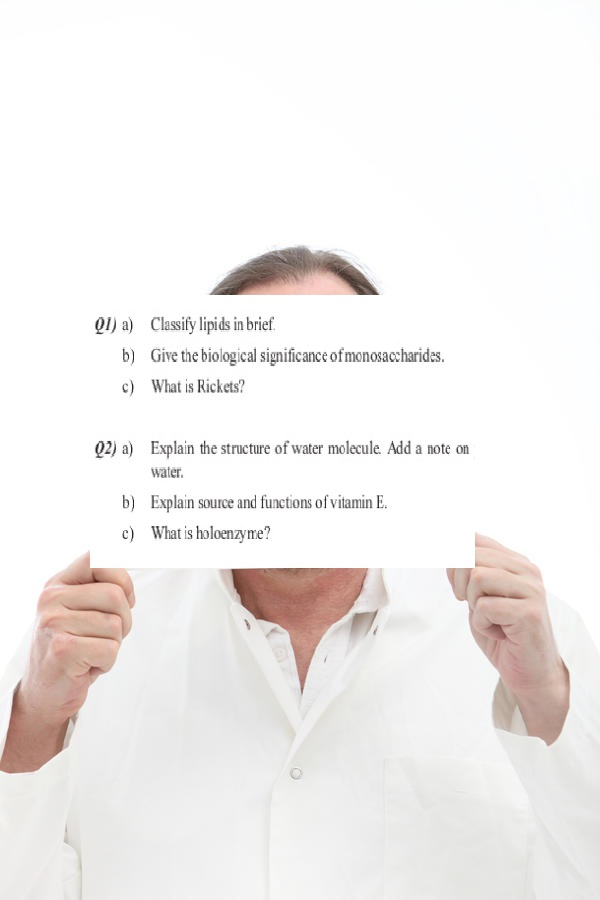questionPaper: (79, 301, 483, 568)
